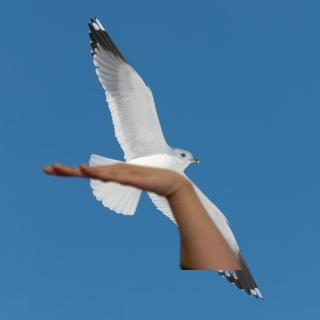WAIT: (39, 153, 183, 196)
